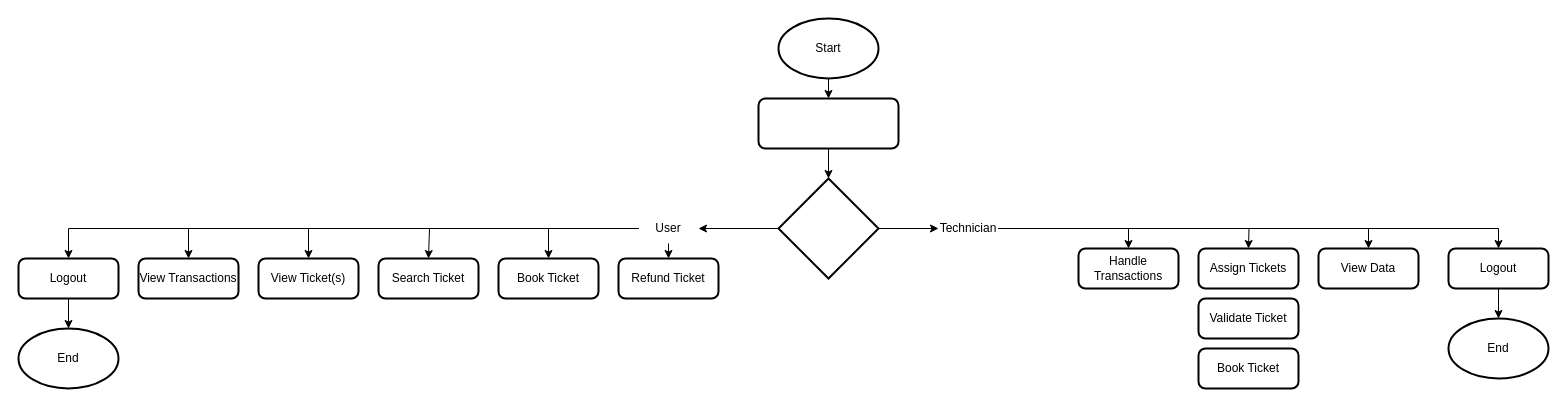
The diagram is 1566 pixels wide and 406 high, and some of its shapes have lost their labels. The shapes that lost their labels are listed below. From the top down, each one's centre as x and y in pixels, then its label:
the point at 828,123: User/Technician Login
the point at 828,228: User or Technician?
